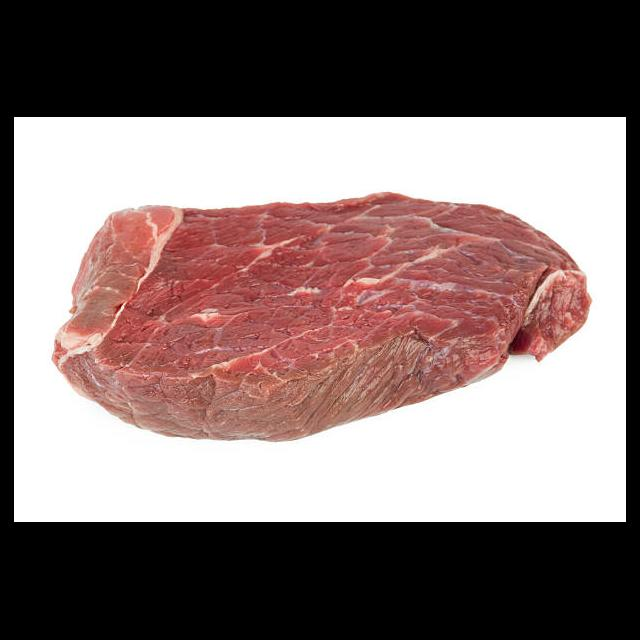beef: (49, 188, 593, 444)
